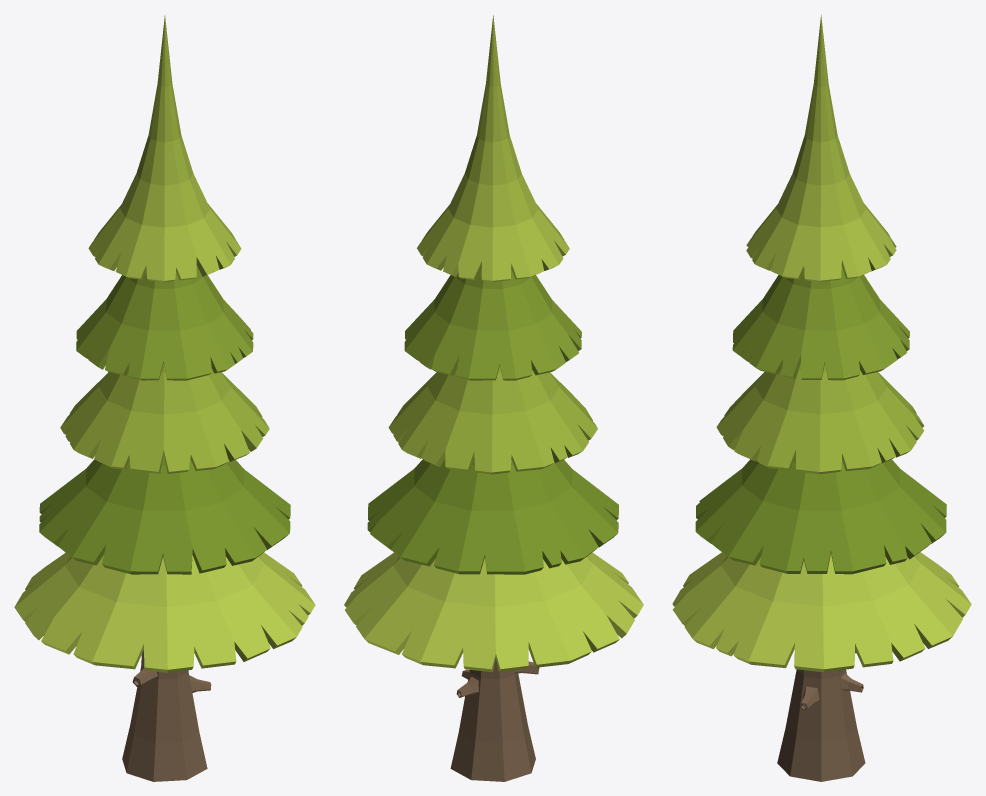
File: NHP_Tree_LP_C1_5m_01.fbx
3 views of the same model, side by side, from view 1: azimuth 30°, elevation 25°; view 2: azimuth 150°, elevation 25°; view 3: azimuth 270°, elevation 25° (orthographic).
Parts seen in each view (by area): view 1: NHP_Tree_LP_C1_5m_01_LOD0; view 2: NHP_Tree_LP_C1_5m_01_LOD0; view 3: NHP_Tree_LP_C1_5m_01_LOD0.
Part boxes in pixels (x1,y1,x2,y2): NHP_Tree_LP_C1_5m_01_LOD0: (14, 15, 315, 781); NHP_Tree_LP_C1_5m_01_LOD0: (344, 15, 643, 781); NHP_Tree_LP_C1_5m_01_LOD0: (672, 14, 971, 781).
Size of what is drawn, in the model's own units: 1.9 by 5.25 by 1.9.
